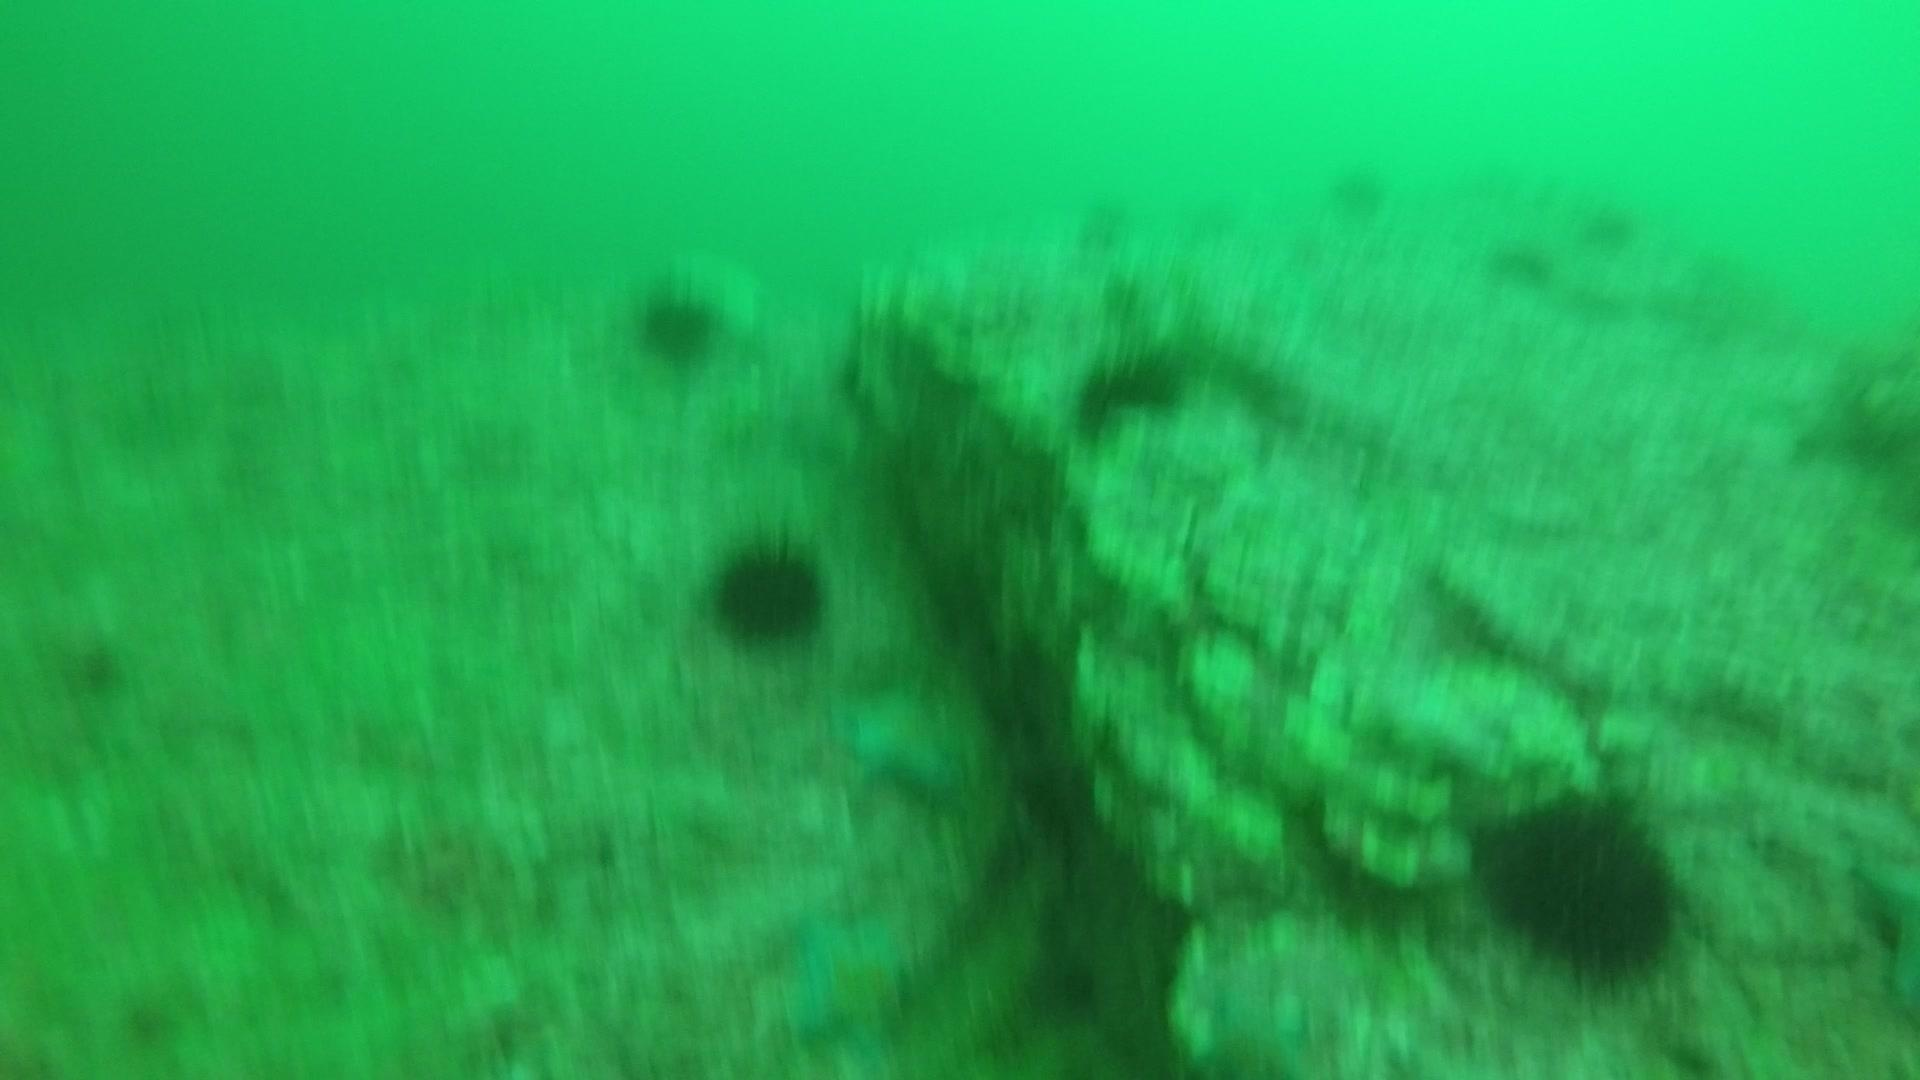echinus: (1465, 781, 1691, 985), (703, 529, 832, 649), (1069, 343, 1188, 433), (629, 280, 727, 369), (1065, 193, 1134, 256), (1276, 216, 1345, 280), (1087, 268, 1154, 331), (1188, 183, 1255, 247), (1324, 160, 1393, 222), (1484, 233, 1555, 291), (1577, 195, 1642, 253)
starfish: (766, 905, 927, 1071), (829, 674, 978, 800), (1845, 845, 1920, 1021)
